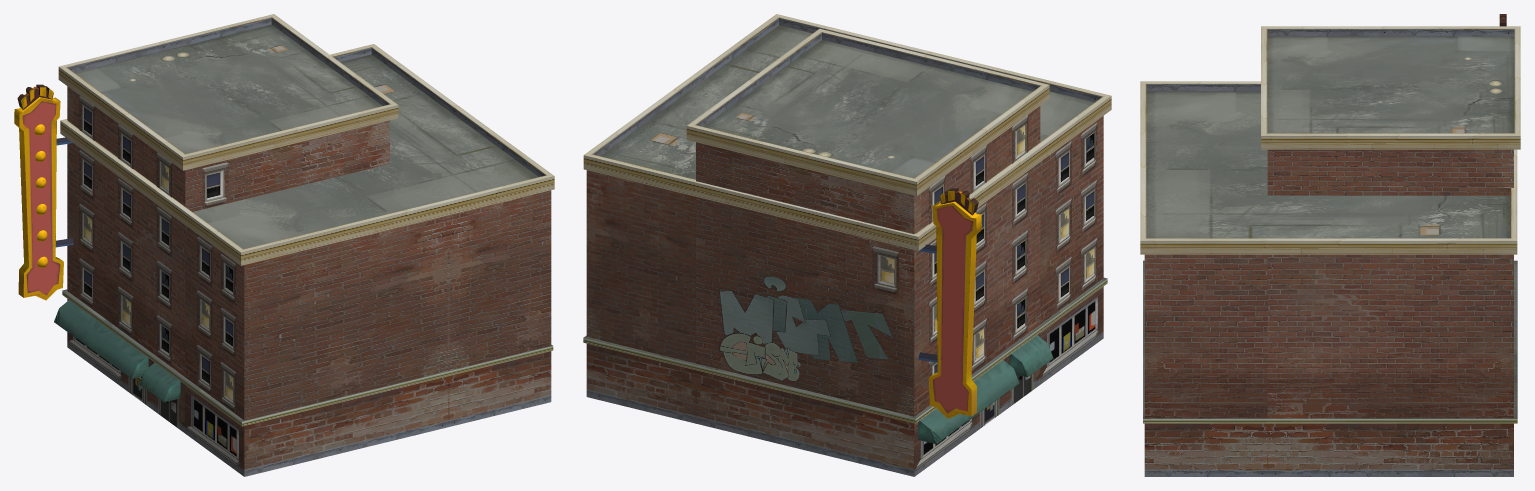
The model's file is Build_Dots.fbx.
The picture shows the model from 3 angles, left to right: view 1: azimuth 30°, elevation 25°; view 2: azimuth 150°, elevation 25°; view 3: azimuth 270°, elevation 25°; orthographic projection. The views are drawn at different scales.
Visible parts, largest first — view 1: Build_Dots; view 2: Build_Dots; view 3: Build_Dots.
Boxes of the visible parts, x1=… form: Build_Dots: x1=14, y1=14, x2=554, y2=476; Build_Dots: x1=583, y1=14, x2=1111, y2=476; Build_Dots: x1=1140, y1=14, x2=1520, y2=476.
Bounding box in the file's own units: 749 × 550 × 650.
Materials: 2 (2 with a texture image).
